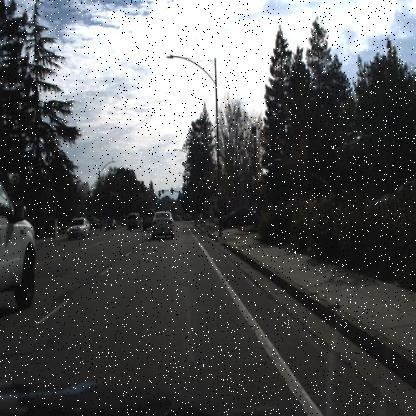car: (216, 202, 258, 228), (152, 209, 176, 238), (65, 217, 90, 240), (140, 208, 154, 231), (127, 210, 140, 230), (103, 218, 114, 230)
truck: (1, 155, 42, 314)
